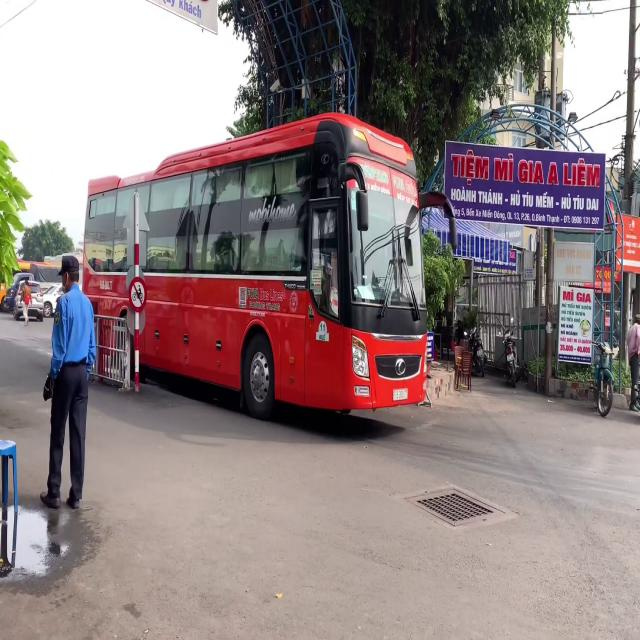bien_trang: (394, 389, 408, 401)
